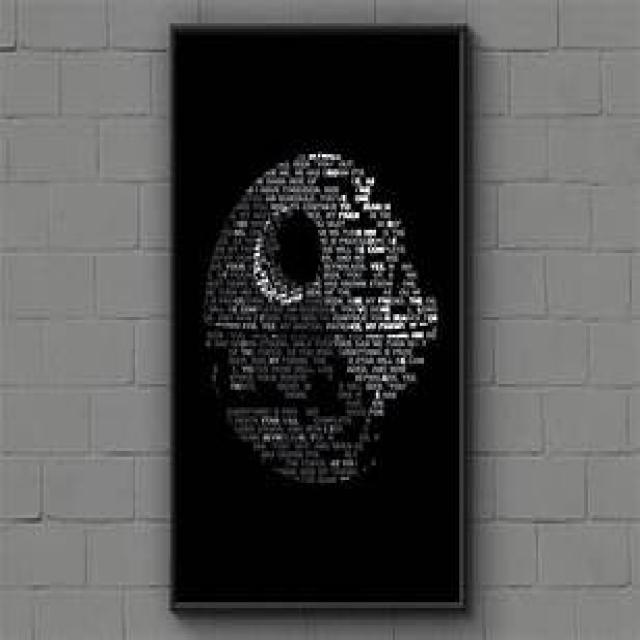deathStar: (201, 148, 440, 492)
